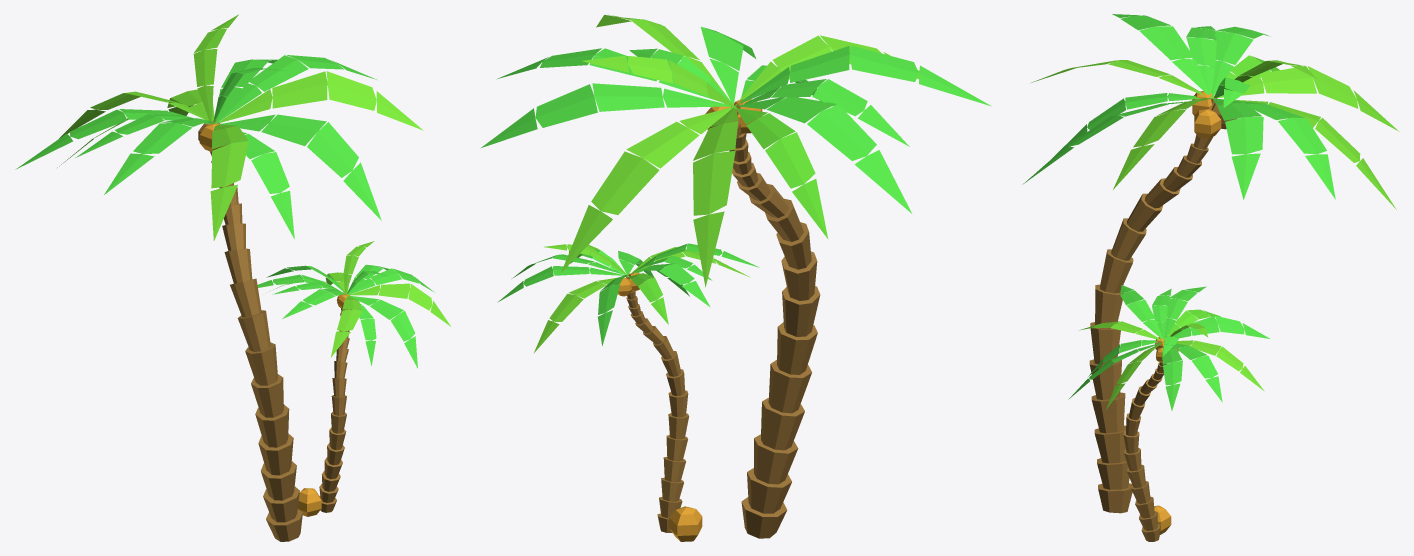
The model's file is Palma.fbx.
3 views of the same model, side by side, from view 1: azimuth 30°, elevation 25°; view 2: azimuth 150°, elevation 25°; view 3: azimuth 270°, elevation 25° (orthographic). The views are drawn at different scales.
Parts seen in each view (by area): view 1: Chioma, Cubo, Chioma.001, Cubo.001, Sfera.003; view 2: Chioma, Cubo, Chioma.001, Cubo.001, Sfera.003; view 3: Chioma, Cubo, Chioma.001, Cubo.001, Sfera.001.
Boxes of the visible parts, box(x1,y1,x2,y2) form: Chioma: box(15, 14, 423, 240); Cubo: box(210, 151, 302, 541); Chioma.001: box(257, 241, 450, 368); Cubo.001: box(319, 308, 349, 512); Sfera.003: box(297, 488, 321, 516); Chioma: box(481, 14, 991, 287); Cubo: box(729, 106, 820, 538); Chioma.001: box(497, 243, 759, 353); Cubo.001: box(626, 276, 689, 532); Sfera.003: box(669, 506, 702, 541); Chioma: box(1022, 14, 1399, 209); Cubo: box(1089, 98, 1217, 513); Chioma.001: box(1068, 285, 1269, 410); Cubo.001: box(1123, 341, 1166, 541); Sfera.001: box(1194, 109, 1221, 138).
Bounding box in the file's own units: 690 × 784 × 584.
